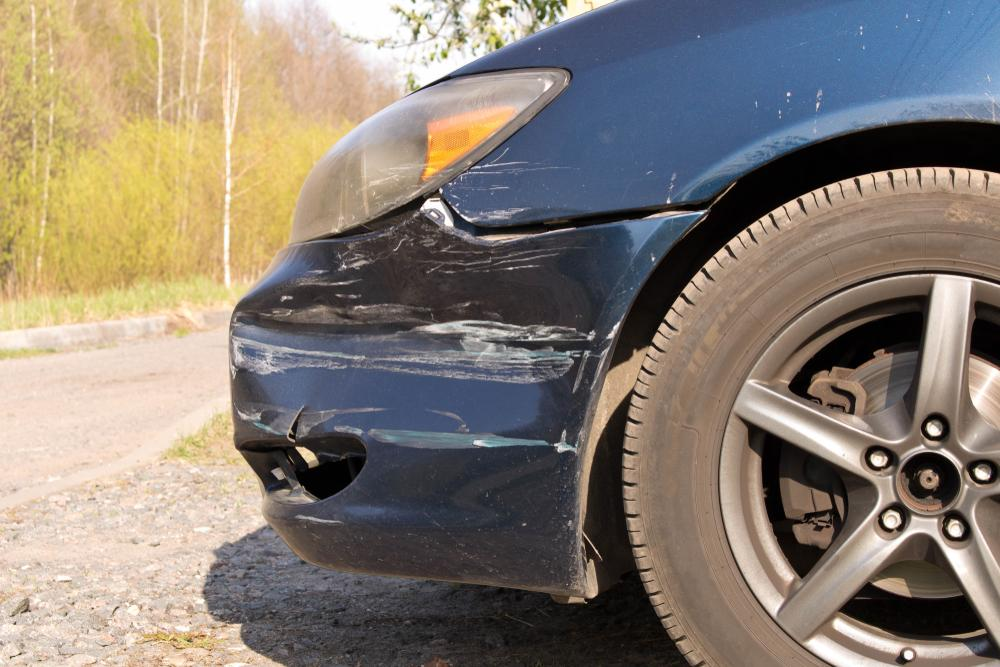crack: (287, 404, 307, 440)
dent: (235, 223, 610, 443)
scratch: (439, 144, 570, 226)
